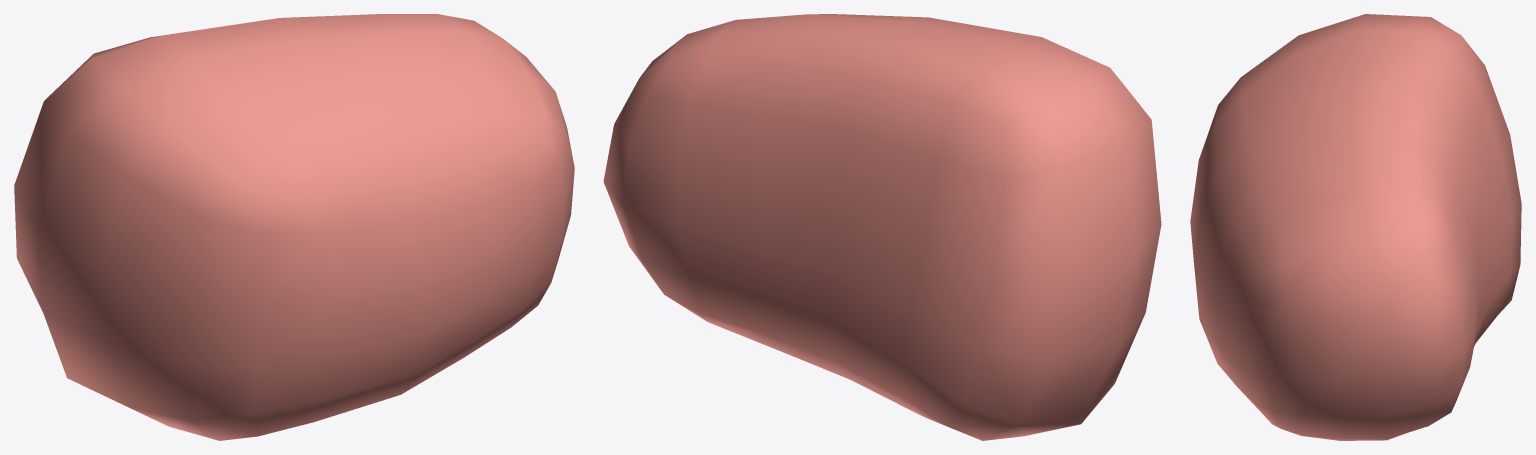
The model's file is mixamo_humanoid_surface_leftHandRing3.fbx.
3 views of the same model, side by side, from view 1: azimuth 30°, elevation 25°; view 2: azimuth 150°, elevation 25°; view 3: azimuth 270°, elevation 25° (orthographic). The views are drawn at different scales.
Visible parts, largest first — view 1: surface_LeftHandRing3; view 2: surface_LeftHandRing3; view 3: surface_LeftHandRing3.
Part boxes in pixels (box(x1,y1,x2,y2)): surface_LeftHandRing3: box(14, 14, 574, 440); surface_LeftHandRing3: box(603, 14, 1161, 440); surface_LeftHandRing3: box(1190, 14, 1521, 440).
Size of the model in its own units: 2.68 by 1.8 by 1.68.
